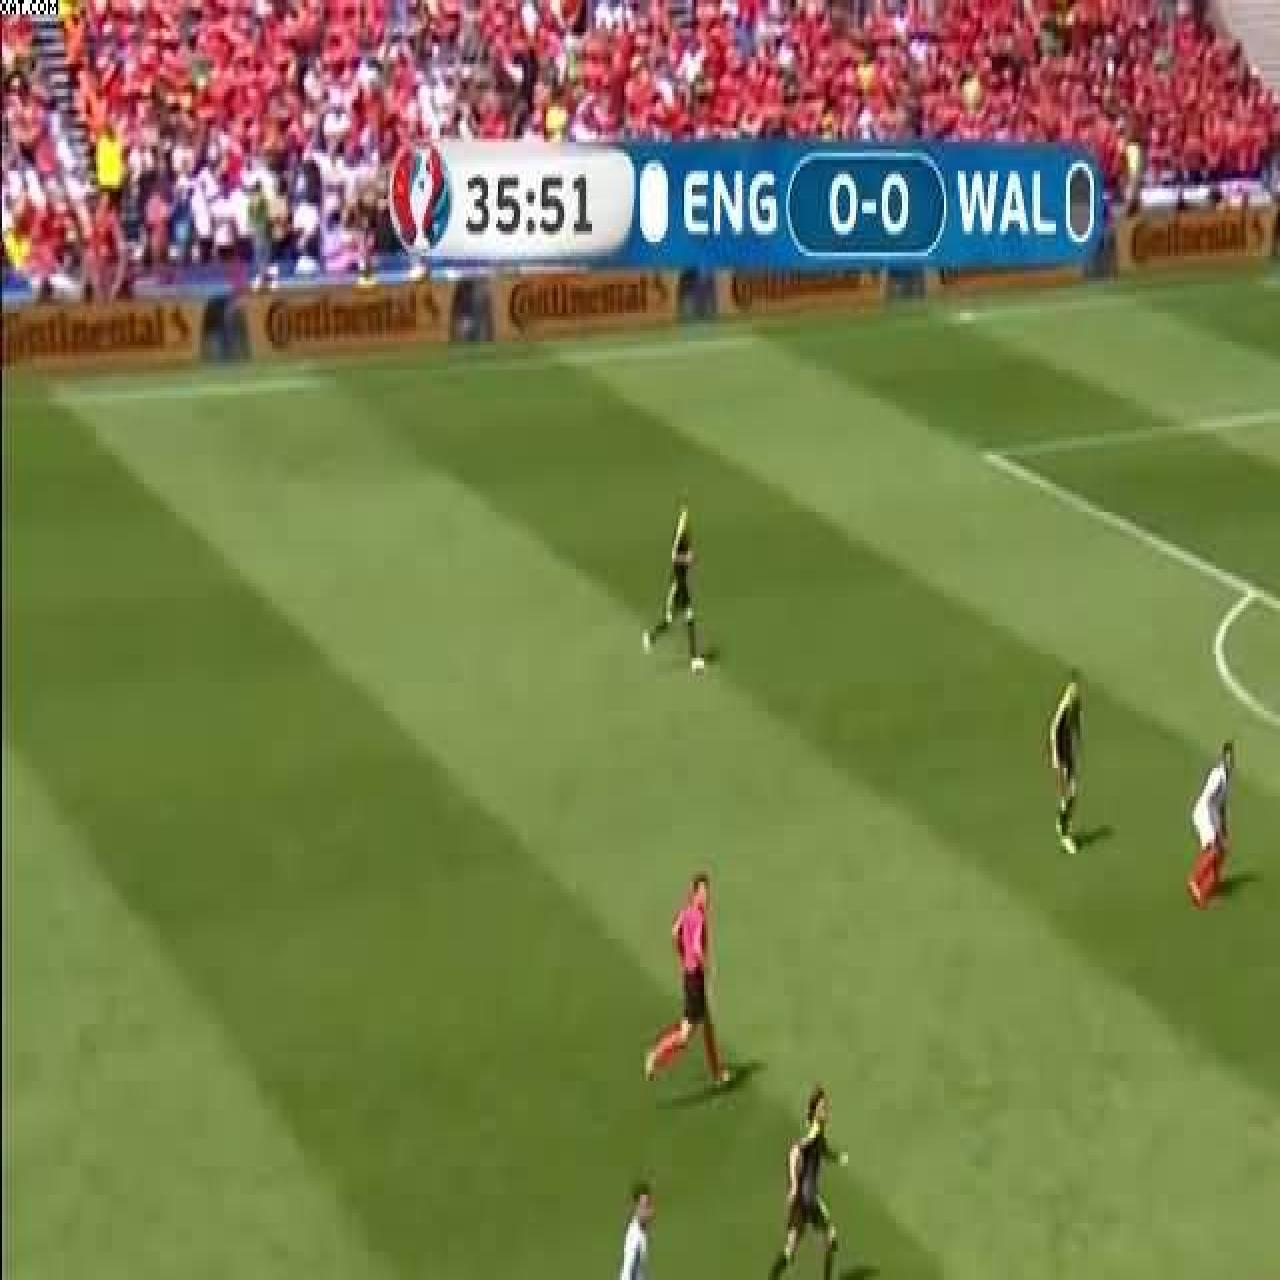football: (643, 866, 735, 1088), (758, 1084, 848, 1280), (646, 503, 704, 669), (1188, 738, 1238, 909), (590, 1177, 660, 1280), (1050, 677, 1084, 860), (1272, 1106, 1280, 1280), (1216, 1276, 1280, 1280)
